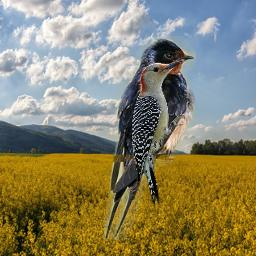Swallow: (100, 36, 196, 240)
Woodpecker: (132, 57, 187, 213)
